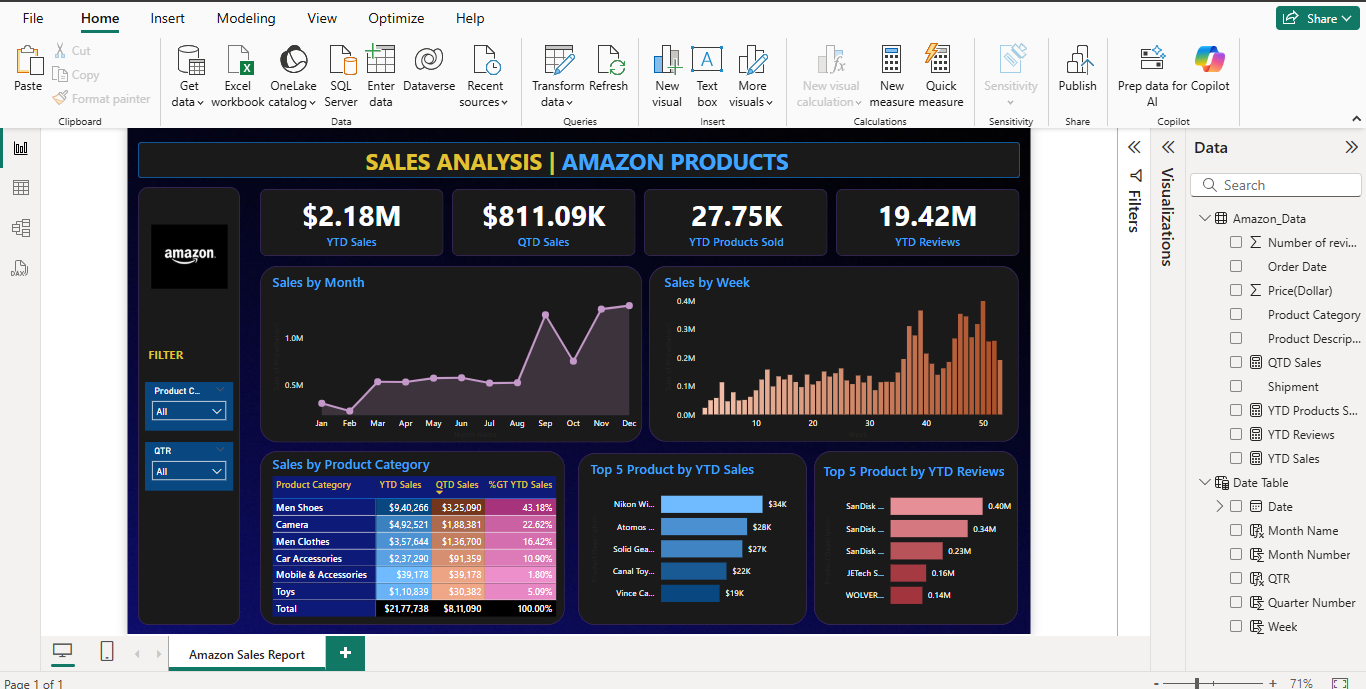

This screenshot's page, from the dashboard's own definition file:
{"tool":"powerbi","page":{"name":"Amazon Sales Report","canvas":[1280,720],"ordinal":0},"visuals":[{"type":"shape","box":[15.6,19.8,1250.1,51],"z":0},{"type":"textbox","box":[333.1,19.8,630.7,53.9],"z":1000},{"type":"shape","box":[188.3,86.7,260,95],"z":2000},{"type":"shape","box":[15.6,83.6,144.6,620.8],"z":3000},{"type":"card","fields":{"Values":["Amazon_Data.YTD Sales"]},"box":[188.3,83.3,260,98.3],"z":4000},{"type":"shape","box":[460.6,86.7,260,95],"z":5000},{"type":"card","fields":{"Values":["Amazon_Data.QTD Sales"]},"box":[480,83.3,220,98.3],"z":6000},{"type":"shape","box":[732.8,86.7,260,95],"z":7000},{"type":"card","fields":{"Values":["Amazon_Data.YTD Products Sold"]},"box":[753.3,83.3,220,98.3],"z":8000},{"type":"shape","box":[1005,86.7,260,95],"z":9000},{"type":"card","fields":{"Values":["Amazon_Data.YTD Reviews"]},"box":[1025,83.3,220,98.3],"z":10000},{"type":"shape","box":[188.3,195,541.7,250],"z":11000},{"type":"areaChart","title":"Sales by Month","fields":{"Category":["Date Table.Month Name"],"Y":["Sum(Amazon_Data.Price(Dollar))"]},"box":[201.3,205.5,531.5,239.5],"z":12000},{"type":"shape","box":[739.8,195.6,524.4,249.4],"z":13000},{"type":"shape","box":[188.5,457.8,432.3,246.6],"z":14000},{"type":"columnChart","title":"Sales by Week","fields":{"Category":["Date Table.Week"],"Y":["Sum(Amazon_Data.Price(Dollar))"]},"box":[756.9,205.5,508.8,239.5],"z":15000},{"type":"pivotTable","title":"Sales by Product Category","fields":{"Rows":["Amazon_Data.Product Category"],"Values":["Amazon_Data.YTD Sales1","Amazon_Data.QTD Sales","Amazon_Data.YTD Sales"]},"box":[201.3,463.5,419.5,240.9],"z":16000},{"type":"shape","box":[639.2,460.6,324.6,243.8],"z":17000},{"type":"shape","box":[973.7,457.8,289.1,246.6],"z":18000},{"type":"clusteredBarChart","title":"Top 5 Product by YTD Sales","fields":{"Category":["Amazon_Data.Product Description"],"Y":["Amazon_Data.YTD Sales"]},"box":[652,470.6,299.1,219.7],"z":19000},{"type":"clusteredBarChart","title":"Top 5 Product by YTD Reviews","fields":{"Category":["Amazon_Data.Product Description"],"Y":["Amazon_Data.YTD Reviews"]},"box":[982.2,473.4,280.6,219.7],"z":20000},{"type":"slicer","fields":{"Values":["Amazon_Data.Product Category"]},"box":[25.5,360,124.7,69.4],"z":21000},{"type":"slicer","fields":{"Values":["Date Table.QTR"]},"box":[25.5,445,124.7,69.4],"z":22000},{"type":"image","box":[15.6,131.8,144.6,100.6],"z":23000},{"type":"textbox","box":[25.5,304.7,73.7,36.9],"z":24000}]}

Visuals, with their boxes on the page's 1280x720 design canvas (x1, y1, x2, y2). These are canvas units, not pixel positions in the 1366x689 screenshot, which may show the page scaled, cropped or inside an application window:
shape: BBox(16, 20, 1266, 71)
textbox: BBox(333, 20, 964, 74)
shape: BBox(188, 87, 448, 182)
shape: BBox(16, 84, 160, 704)
card - Amazon_Data.YTD Sales: BBox(188, 83, 448, 182)
shape: BBox(461, 87, 721, 182)
card - Amazon_Data.QTD Sales: BBox(480, 83, 700, 182)
shape: BBox(733, 87, 993, 182)
card - Amazon_Data.YTD Products Sold: BBox(753, 83, 973, 182)
shape: BBox(1005, 87, 1265, 182)
card - Amazon_Data.YTD Reviews: BBox(1025, 83, 1245, 182)
shape: BBox(188, 195, 730, 445)
"Sales by Month" areaChart: BBox(201, 206, 733, 445)
shape: BBox(740, 196, 1264, 445)
shape: BBox(188, 458, 621, 704)
"Sales by Week" columnChart: BBox(757, 206, 1266, 445)
"Sales by Product Category" pivotTable: BBox(201, 464, 621, 704)
shape: BBox(639, 461, 964, 704)
shape: BBox(974, 458, 1263, 704)
"Top 5 Product by YTD Sales" clusteredBarChart: BBox(652, 471, 951, 690)
"Top 5 Product by YTD Reviews" clusteredBarChart: BBox(982, 473, 1263, 693)
slicer - Amazon_Data.Product Category: BBox(26, 360, 150, 429)
slicer - Date Table.QTR: BBox(26, 445, 150, 514)
image: BBox(16, 132, 160, 232)
textbox: BBox(26, 305, 99, 342)
